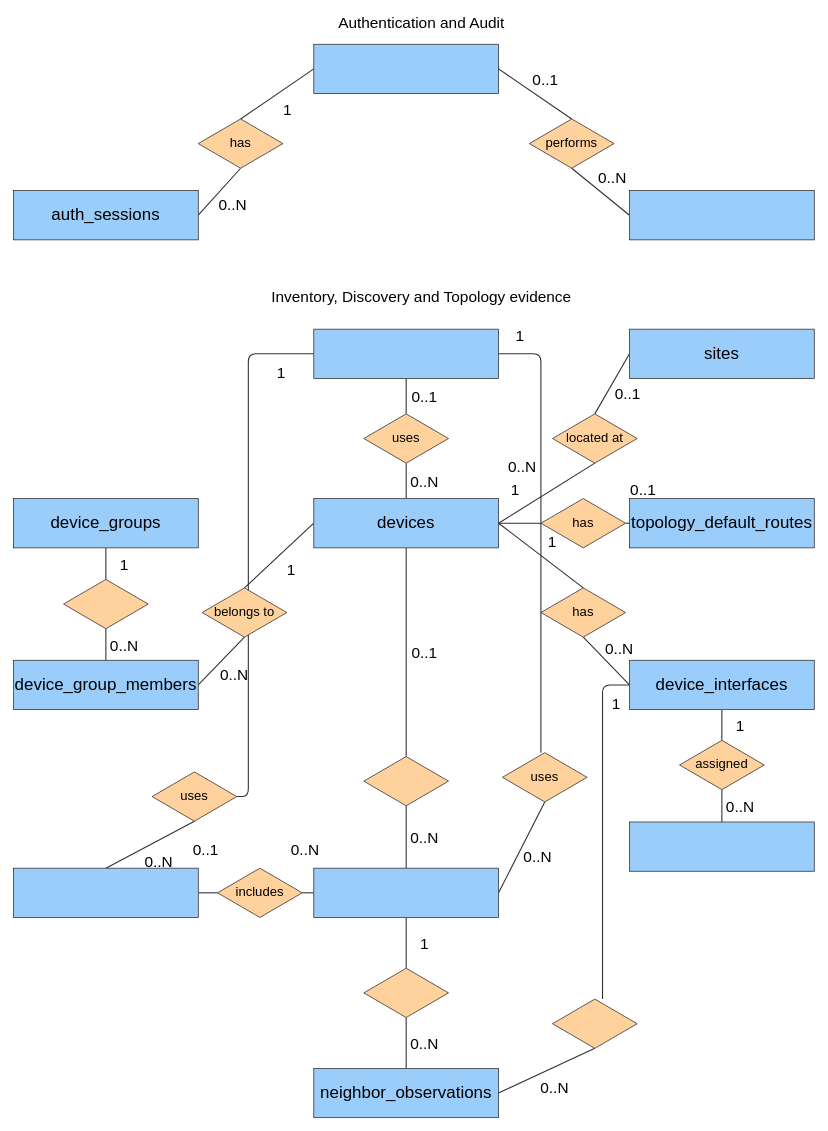
This 828x1131 diagram has some shape labels left out. Each missing label, with the centre of its shape:
audit_logs: pixel 721 215
collection_runs: pixel 406 892
collects: pixel 406 781
contains: pixel 105 604
credential_profiles: pixel 406 353
discovery_scans: pixel 105 892
interface_ip_addresses: pixel 721 846
observed on: pixel 594 1023
records: pixel 406 993
users: pixel 406 69
